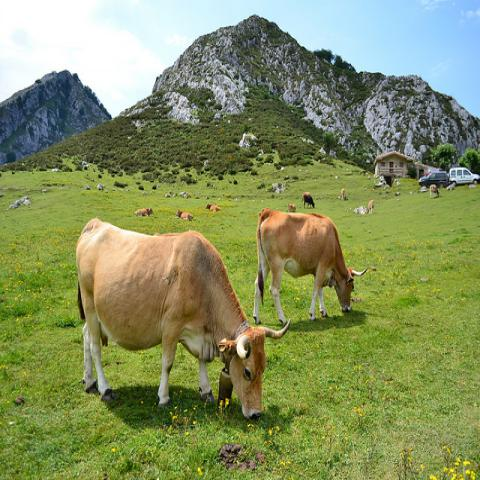car: (448, 167, 480, 186), (417, 170, 451, 186)
